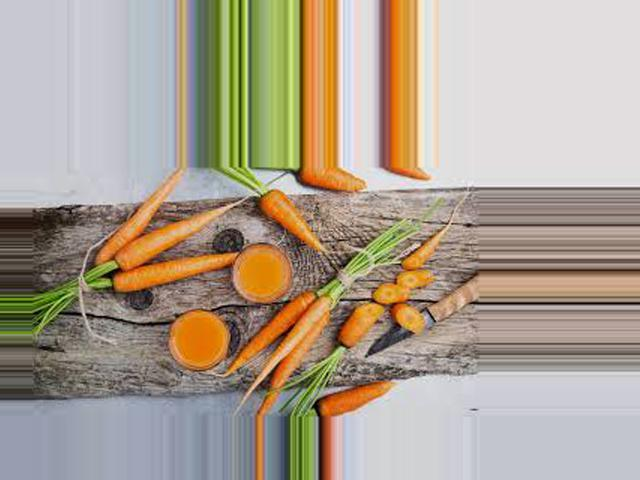carrot: (73, 170, 196, 270)
